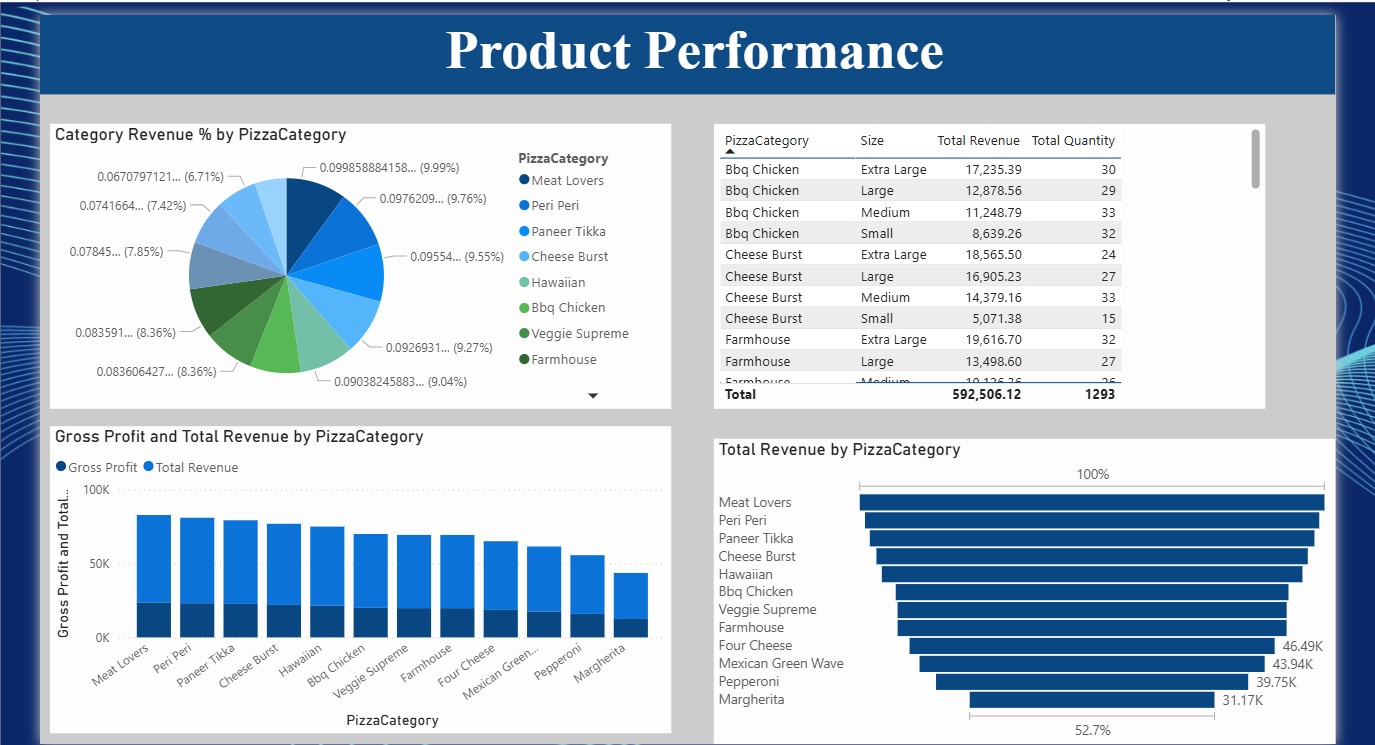

The dashboard page shown, as its layout file describes it:
{"tool":"powerbi","page":{"name":"Page 2","canvas":[1280,720],"ordinal":1},"visuals":[{"type":"textbox","box":[0,0,1279.2,78.5],"z":0},{"type":"pieChart","fields":{"Category":["pizza_sales_messy_1000.PizzaCategory"],"Y":["pizza_sales_messy_1000.Category Revenue %"]},"box":[9.6,107,613.4,281.3],"z":1000},{"type":"columnChart","fields":{"Category":["pizza_sales_messy_1000.PizzaCategory"],"Y":["pizza_sales_messy_1000.Gross Profit","pizza_sales_messy_1000.Total Revenue"]},"box":[9.6,406.2,613.4,303.3],"z":2000},{"type":"tableEx","fields":{"Values":["pizza_sales_messy_1000.PizzaCategory","pizza_sales_messy_1000.Size","pizza_sales_messy_1000.Total Revenue","pizza_sales_messy_1000.Total Quantity"]},"box":[665.5,107,544.8,281.3],"z":3000},{"type":"funnel","fields":{"Category":["pizza_sales_messy_1000.PizzaCategory"],"Y":["pizza_sales_messy_1000.Total Revenue"]},"box":[665.5,418.5,613.4,301.9],"z":4000}]}

Visuals, with their boxes on the page's 1280x720 design canvas (x1, y1, x2, y2). These are canvas units, not pixel positions in the 1375x745 screenshot, which may show the page scaled, cropped or inside an application window:
textbox: 0,0,1279,78
pieChart - pizza_sales_messy_1000.PizzaCategory x pizza_sales_messy_1000.Category Revenue %: 10,107,623,388
columnChart - pizza_sales_messy_1000.PizzaCategory x pizza_sales_messy_1000.Gross Profit: 10,406,623,710
tableEx - pizza_sales_messy_1000.PizzaCategory x pizza_sales_messy_1000.Size: 666,107,1210,388
funnel - pizza_sales_messy_1000.PizzaCategory x pizza_sales_messy_1000.Total Revenue: 666,418,1279,720
